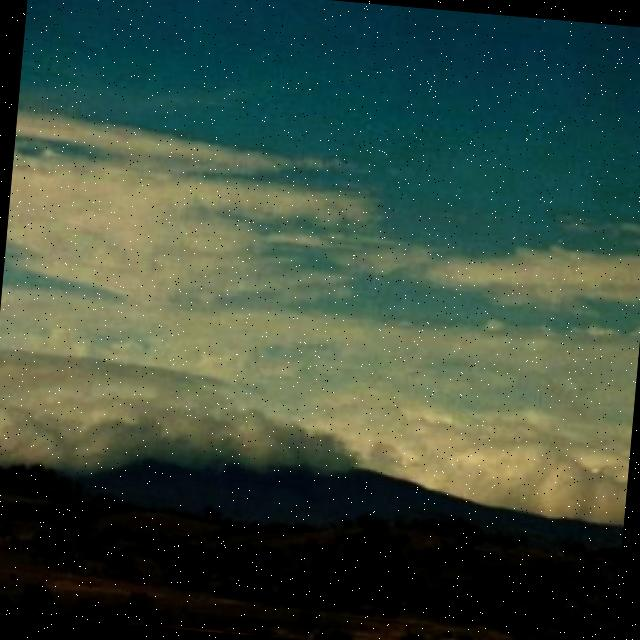Sc: (1, 81, 640, 484)
